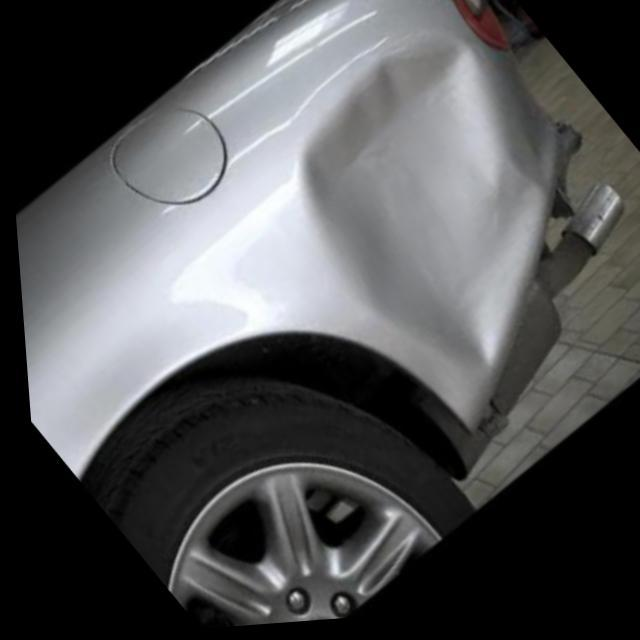dent: (293, 35, 549, 377)
